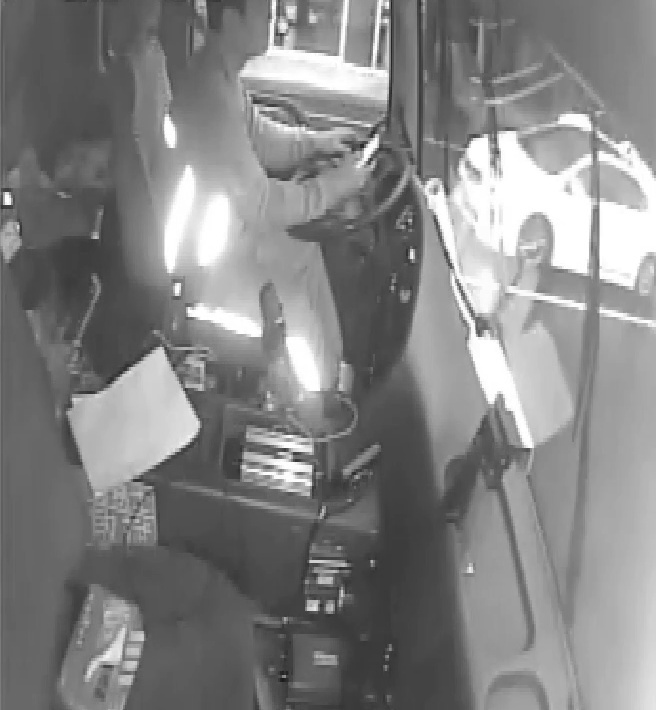cellphone: (353, 132, 382, 167)
